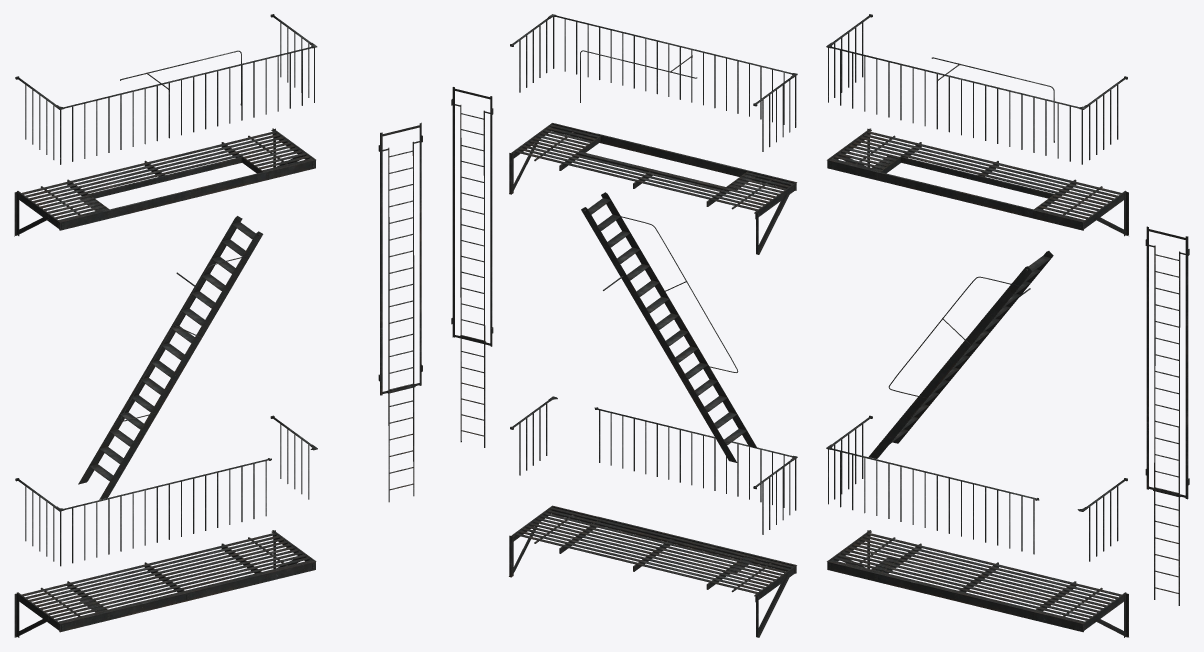
File: modular_fire_escape.glb
The picture shows the model from 3 angles, left to right: view 1: azimuth 30°, elevation 25°; view 2: azimuth 150°, elevation 25°; view 3: azimuth 330°, elevation 25°; orthographic projection. The views are drawn at different scales.
Parts seen in each view (by area): view 1: modular_fire_escape_platform_bottom, modular_fire_escape_platform_middle, modular_fire_escape_stairs, modular_fire_escape_railing_middle, modular_fire_escape_ladder_bottom, modular_fire_escape_railing_bottom; view 2: modular_fire_escape_platform_bottom, modular_fire_escape_platform_middle, modular_fire_escape_stairs, modular_fire_escape_railing_middle, modular_fire_escape_ladder_bottom, modular_fire_escape_railing_bottom; view 3: modular_fire_escape_platform_bottom, modular_fire_escape_platform_middle, modular_fire_escape_ladder_bottom, modular_fire_escape_stairs, modular_fire_escape_railing_middle, modular_fire_escape_railing_bottom.
Boxes of the visible parts, bbox=[...] form: modular_fire_escape_platform_bottom: bbox=[14, 530, 316, 637]; modular_fire_escape_platform_middle: bbox=[14, 128, 315, 236]; modular_fire_escape_stairs: bbox=[78, 216, 263, 499]; modular_fire_escape_railing_middle: bbox=[15, 14, 317, 164]; modular_fire_escape_ladder_bottom: bbox=[378, 122, 422, 502]; modular_fire_escape_railing_bottom: bbox=[15, 415, 317, 566]; modular_fire_escape_platform_bottom: bbox=[509, 505, 796, 637]; modular_fire_escape_platform_middle: bbox=[509, 123, 796, 254]; modular_fire_escape_stairs: bbox=[581, 192, 757, 462]; modular_fire_escape_railing_middle: bbox=[510, 14, 797, 151]; modular_fire_escape_ladder_bottom: bbox=[451, 87, 493, 447]; modular_fire_escape_railing_bottom: bbox=[510, 396, 797, 534]; modular_fire_escape_platform_bottom: bbox=[827, 530, 1128, 637]; modular_fire_escape_platform_middle: bbox=[827, 128, 1128, 236]; modular_fire_escape_ladder_bottom: bbox=[1145, 226, 1189, 605]; modular_fire_escape_stairs: bbox=[868, 251, 1053, 458]; modular_fire_escape_railing_middle: bbox=[826, 14, 1127, 164]; modular_fire_escape_railing_bottom: bbox=[826, 415, 1127, 561].
Size of the model in its own units: 6.66 by 9.76 by 1.42.
Materials: 2 (2 with a texture image).
